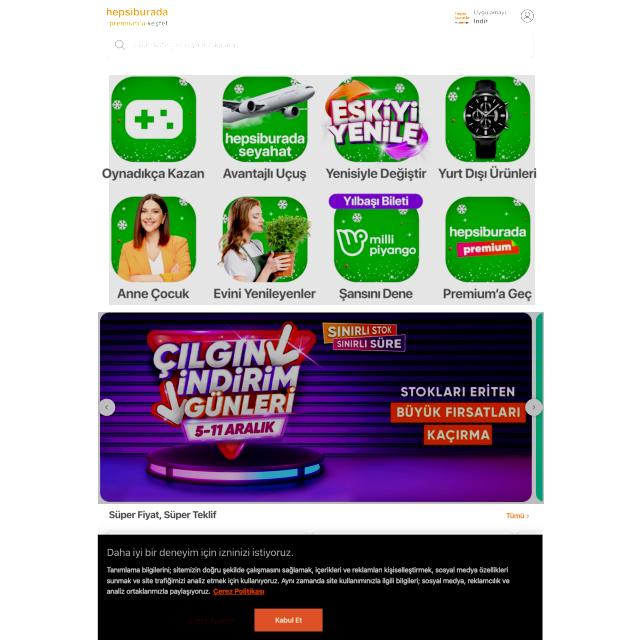CheckBox: (254, 608, 323, 632), (186, 614, 236, 627)
CheckedTextView: (106, 32, 534, 58)
Switch: (98, 312, 544, 504)
bag: (100, 0, 538, 75)
breadcrumbs: (102, 544, 296, 561)
carousel: (519, 8, 536, 24)
date picker: (104, 5, 171, 29)
decoration: (109, 75, 535, 305)
footer: (130, 38, 238, 50)
header: (97, 534, 543, 640)
